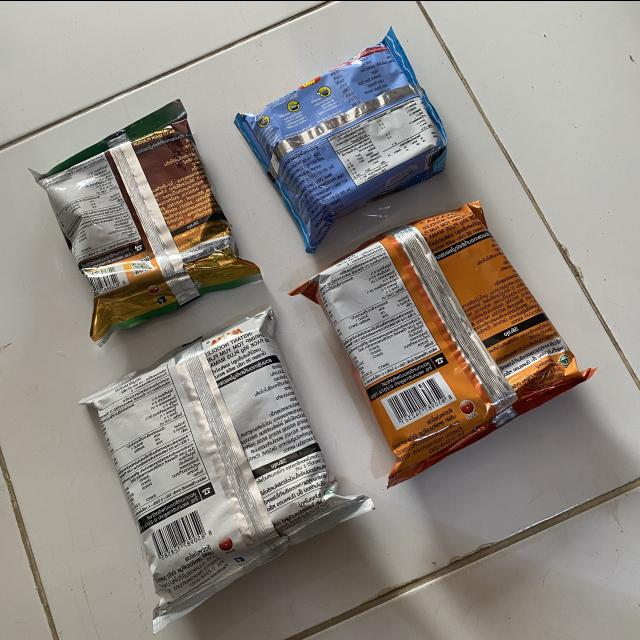plastik: (80, 308, 374, 632), (291, 201, 595, 486), (32, 99, 262, 345), (235, 27, 447, 242)
